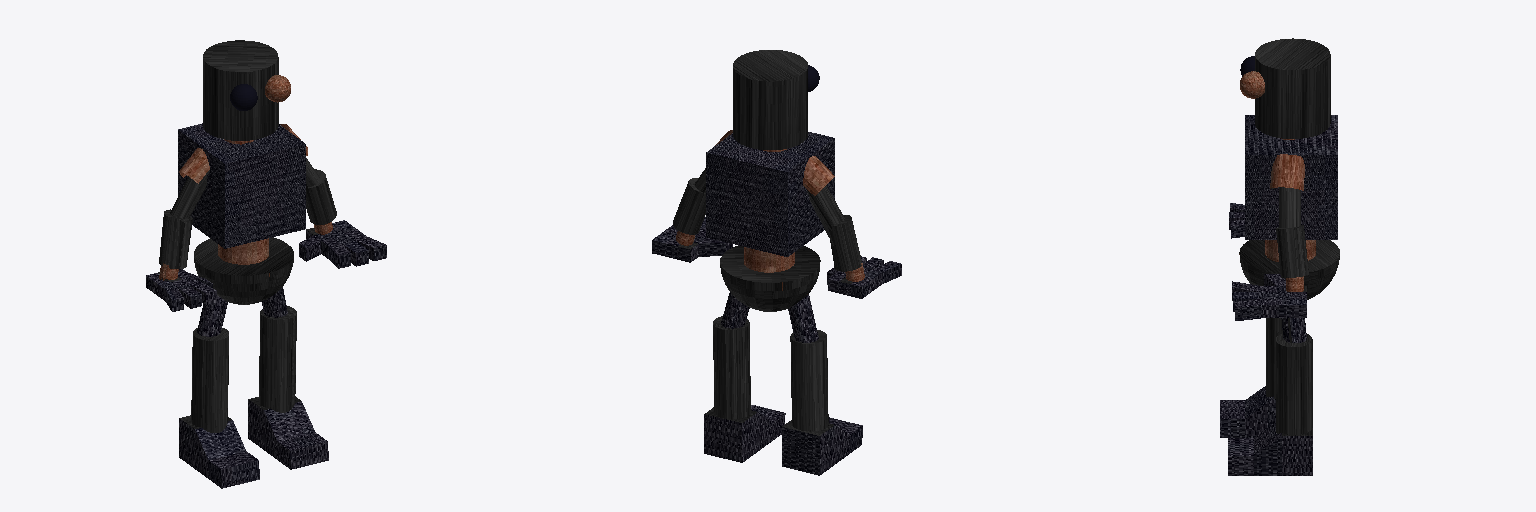
The picture shows the model from 3 angles: view 1: azimuth 30°, elevation 25°; view 2: azimuth 150°, elevation 25°; view 3: azimuth 270°, elevation 25°; orthographic projection.
Parts seen in each view (by area): view 1: Circle.009_Circle.035; view 2: Circle.009_Circle.035; view 3: Circle.009_Circle.035.
Boxes of the visible parts, x1=… form: Circle.009_Circle.035: x1=146, y1=40, x2=386, y2=488; Circle.009_Circle.035: x1=652, y1=50, x2=901, y2=475; Circle.009_Circle.035: x1=1220, y1=38, x2=1339, y2=475.
Bounding box in the file's own units: 12.87 × 22.28 × 6.17.
Materials: 1 (1 with a texture image).